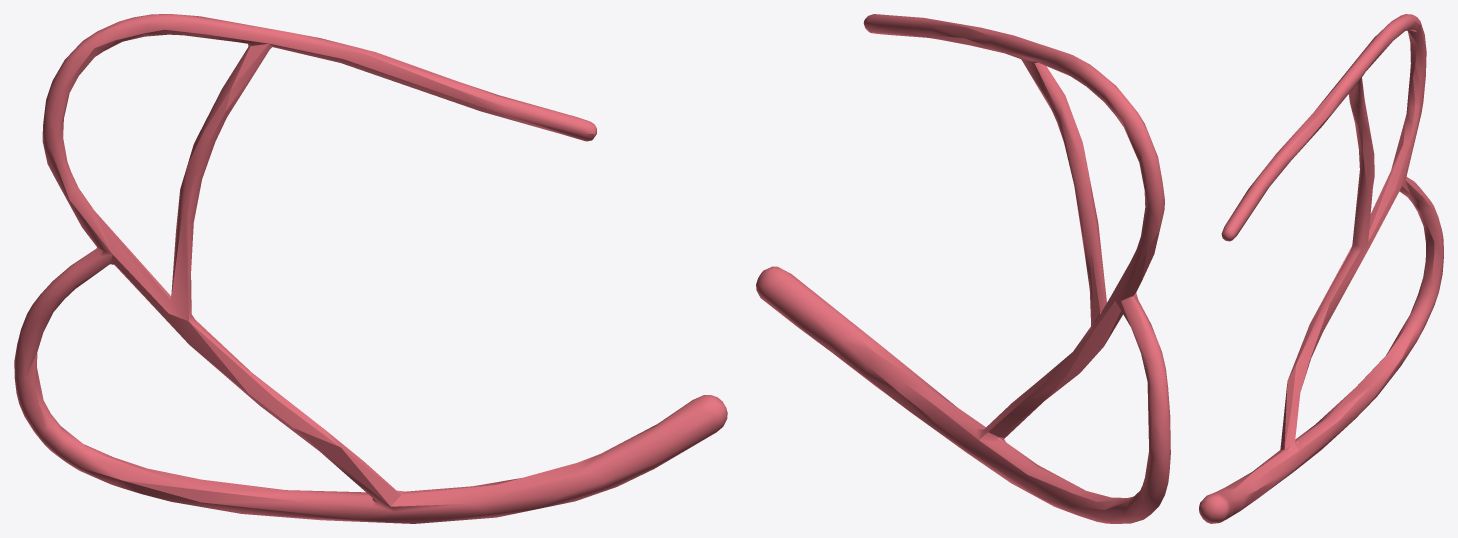
Rendered from fma14811_fj3590.glb.
3 views of the same model, side by side, from view 1: azimuth 30°, elevation 25°; view 2: azimuth 150°, elevation 25°; view 3: azimuth 270°, elevation 25° (orthographic). The views are drawn at different scales.
Visible parts, largest first — view 1: FMA14811_FJ3590; view 2: FMA14811_FJ3590; view 3: FMA14811_FJ3590.
Part boxes in pixels (left/top/right/bottom): FMA14811_FJ3590: left=14, top=14, right=727, bottom=523; FMA14811_FJ3590: left=756, top=14, right=1170, bottom=523; FMA14811_FJ3590: left=1199, top=14, right=1443, bottom=523.
Size of the model in its own units: 0.0635 by 0.0535 by 0.0309.
